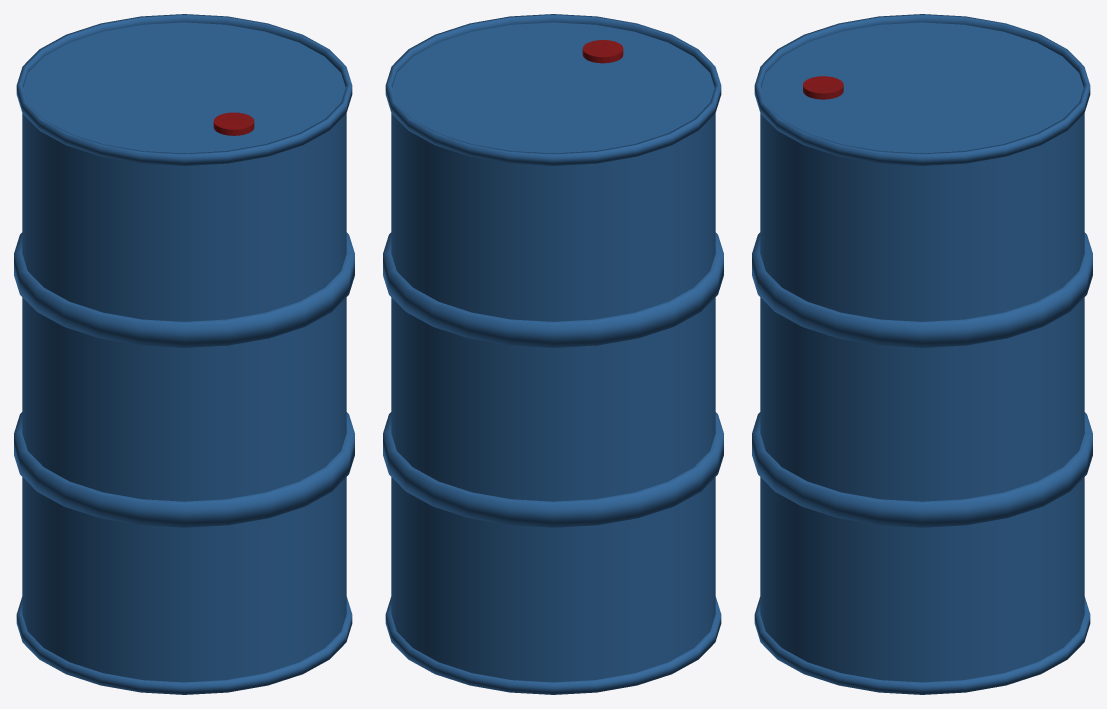
The model's file is ef8d5e40-c458-48de-8c69-1df4efe616ca.glb.
3 renders of one model, left to right at view 1: azimuth 30°, elevation 25°; view 2: azimuth 150°, elevation 25°; view 3: azimuth 270°, elevation 25°, orthographic.
Parts seen in each view (by area): view 1: OilDrum; view 2: OilDrum; view 3: OilDrum.
Boxes of the visible parts, box(x1,y1,x2,y2) form: OilDrum: box(14, 14, 354, 694); OilDrum: box(383, 14, 723, 694); OilDrum: box(752, 14, 1092, 694).
Size of what is drawn, in the model's own units: 0.63 by 1.1 by 0.63.
Materials: 1 (1 with a texture image).
